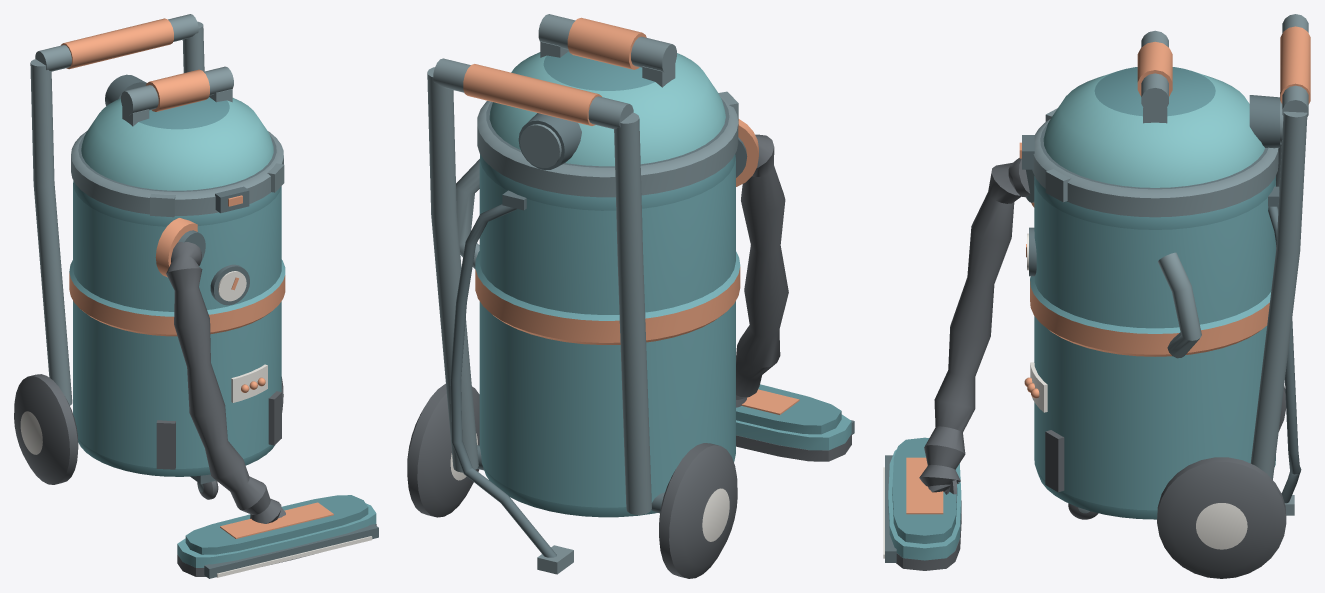
The model's file is aspiradora_n3.glb.
The picture shows the model from 3 angles, left to right: view 1: azimuth 30°, elevation 25°; view 2: azimuth 150°, elevation 25°; view 3: azimuth 270°, elevation 25°; orthographic projection. The views are drawn at different scales.
Visible parts, largest first — view 1: deposito2, cupula1, manguera, barra-1, rueda-11, aro1, tapa_boquilla, deposito3, deposito1, barra_puno, cuerpo_boquilla, cupula2 (+18 smaller); view 2: deposito2, cupula1, barra-1, manguera, barra1, aro1, rueda-11, deposito3, rueda11, cable, deposito1, barra_puno (+15 smaller); view 3: deposito2, cupula1, manguera, rueda11, barra1, aro1, deposito3, deposito1, cupula2, tapa_boquilla, asa_lat, rueda10 (+13 smaller).
Part boxes in pixels (bbox=[...]): deposito2: bbox=[69, 184, 285, 468]; cupula1: bbox=[81, 98, 273, 190]; manguera: bbox=[166, 242, 285, 523]; barra-1: bbox=[30, 59, 72, 405]; rueda-11: bbox=[14, 374, 78, 484]; aro1: bbox=[71, 131, 283, 215]; tapa_boquilla: bbox=[185, 495, 368, 554]; deposito3: bbox=[69, 272, 285, 336]; deposito1: bbox=[73, 180, 281, 476]; barra_puno: bbox=[61, 18, 173, 69]; cuerpo_boquilla: bbox=[177, 503, 376, 567]; cupula2: bbox=[139, 97, 229, 129]; deposito2: bbox=[475, 158, 740, 507]; cupula1: bbox=[489, 52, 725, 166]; barra-1: bbox=[614, 112, 651, 514]; manguera: bbox=[736, 134, 788, 407]; barra1: bbox=[427, 67, 478, 472]; aro1: bbox=[477, 95, 738, 197]; rueda-11: bbox=[659, 443, 737, 578]; deposito3: bbox=[475, 267, 740, 344]; rueda11: bbox=[407, 383, 479, 517]; cable: bbox=[450, 204, 556, 557]; deposito1: bbox=[479, 154, 735, 517]; barra_puno: bbox=[463, 64, 601, 125]; deposito2: bbox=[1030, 180, 1275, 510]; cupula1: bbox=[1043, 72, 1264, 187]; manguera: bbox=[919, 158, 1029, 502]; rueda11: bbox=[1157, 457, 1286, 578]; barra1: bbox=[1250, 111, 1307, 479]; aro1: bbox=[1032, 119, 1278, 217]; deposito3: bbox=[1030, 281, 1269, 356]; deposito1: bbox=[1034, 176, 1275, 519]; cupula2: bbox=[1094, 67, 1215, 116]; tapa_boquilla: bbox=[892, 437, 957, 543]; asa_lat: bbox=[1158, 252, 1201, 358]; rueda10: bbox=[1196, 503, 1247, 549].
Size of the model in its own units: 0.3726 by 0.6085 by 0.5086.
